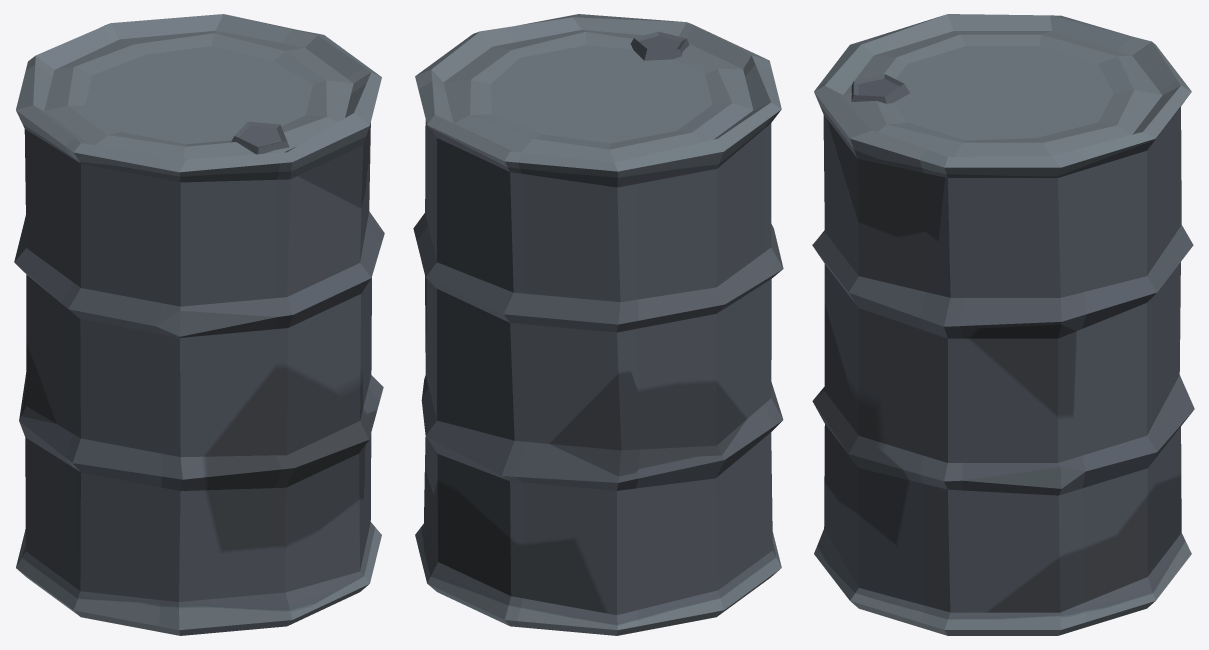
The model's file is SM_Barrel_A_01.gltf.
The picture shows the model from 3 angles, left to right: view 1: azimuth 30°, elevation 25°; view 2: azimuth 150°, elevation 25°; view 3: azimuth 270°, elevation 25°; orthographic projection.
Visible parts, largest first — view 1: SM_Barrel_A_01, SM_Lid_01; view 2: SM_Barrel_A_01, SM_Lid_01; view 3: SM_Barrel_A_01, SM_Lid_01.
Part boxes in pixels (bbox=[...]): SM_Barrel_A_01: bbox=[14, 14, 384, 635]; SM_Lid_01: bbox=[44, 30, 353, 159]; SM_Barrel_A_01: bbox=[413, 14, 783, 635]; SM_Lid_01: bbox=[443, 30, 753, 162]; SM_Barrel_A_01: bbox=[812, 14, 1194, 635]; SM_Lid_01: bbox=[843, 31, 1162, 156].
Bounding box in the file's own units: 0.6244 × 0.9035 × 0.6519.
Materials: 1 (1 with a texture image).
